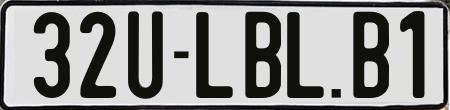1: (398, 11, 428, 104)
2: (80, 9, 119, 95)
3: (33, 11, 70, 98)
B: (245, 9, 286, 98), (351, 10, 389, 99)
L: (193, 11, 233, 101), (287, 12, 326, 100)
U: (126, 9, 163, 97)
